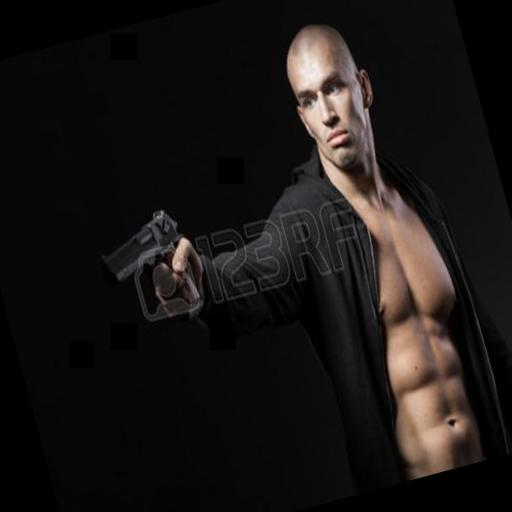Handgun: (91, 200, 205, 332)
